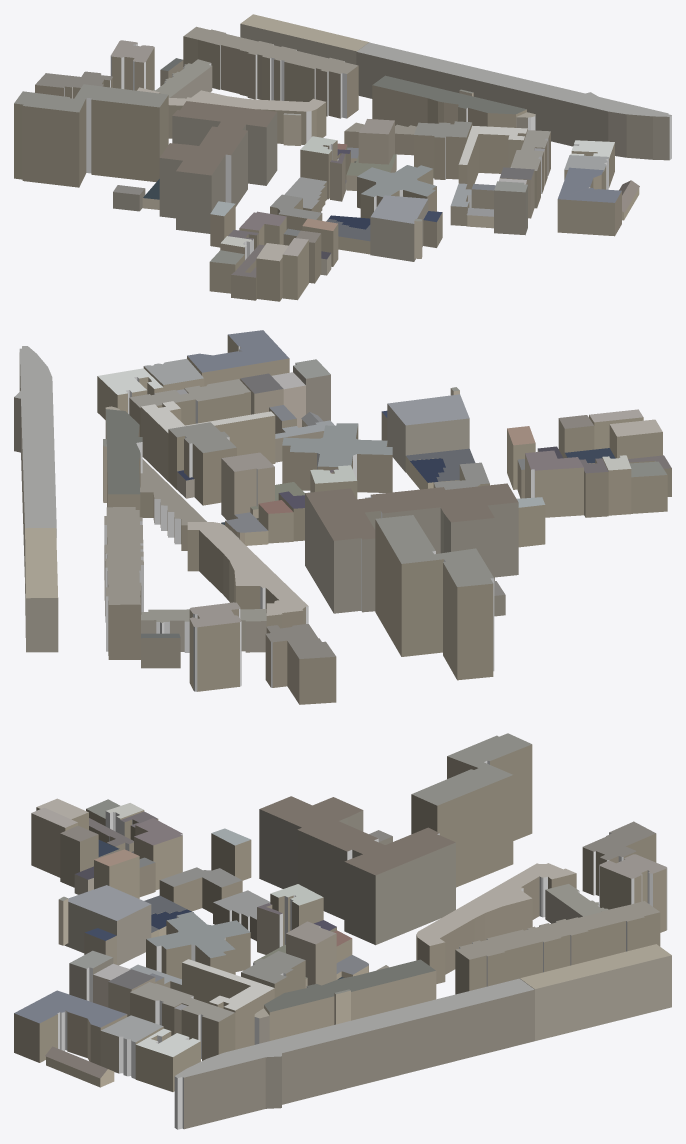
The picture shows the model from 3 angles, top to bottom: view 1: azimuth 30°, elevation 25°; view 2: azimuth 150°, elevation 25°; view 3: azimuth 270°, elevation 25°; orthographic projection. The views are drawn at different scales.
Parts seen in each view (by area): view 1: tuile; view 2: tuile; view 3: tuile.
Boxes of the visible parts, x1,y1,x2,y2 form: tuile: [14, 14, 671, 301]; tuile: [14, 330, 671, 704]; tuile: [14, 733, 671, 1129].
Bounding box in the file's own units: 303 × 44.84 × 279.
